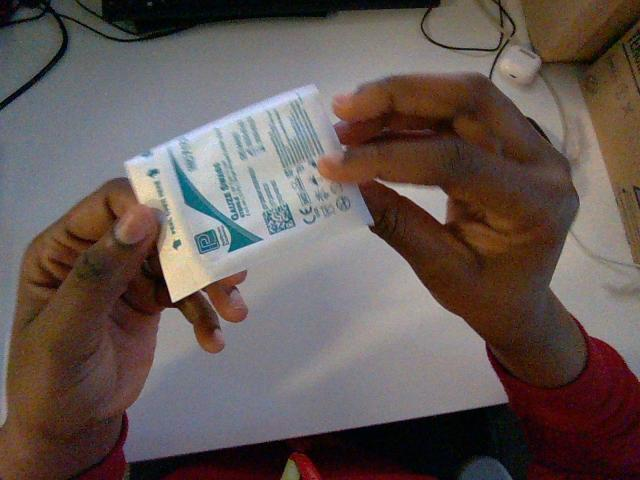gauze: (125, 86, 371, 301)
